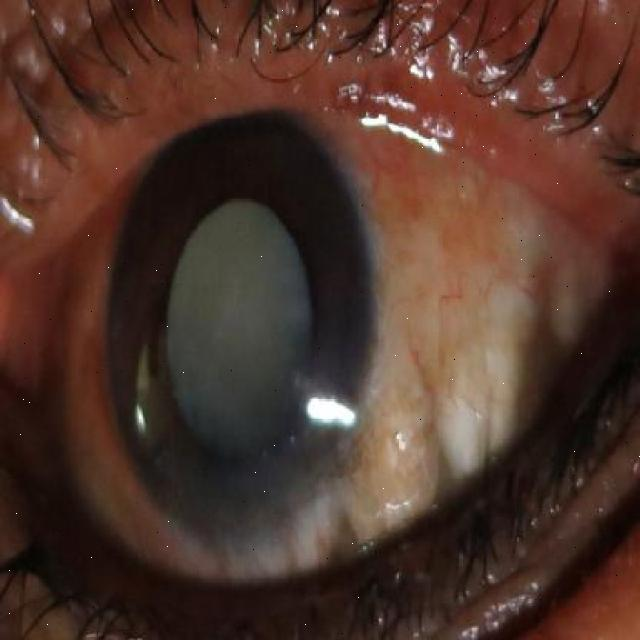Cataract: (103, 90, 376, 542)
